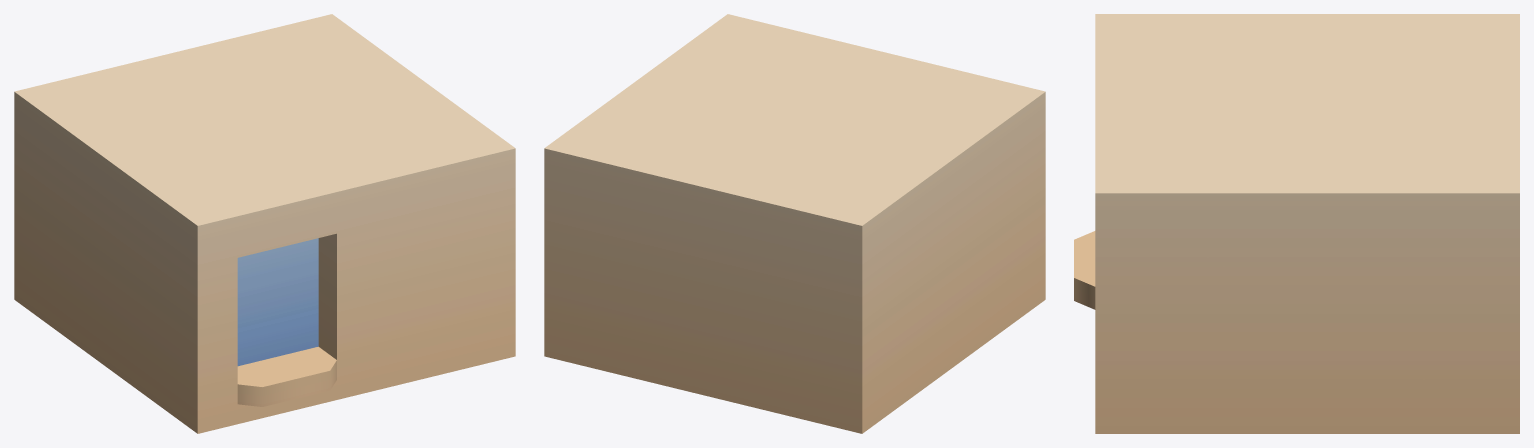
The model's file is kenney-modular-buildings-building-window-left-sill.glb.
3 views of the same model, side by side, from view 1: azimuth 30°, elevation 25°; view 2: azimuth 150°, elevation 25°; view 3: azimuth 270°, elevation 25° (orthographic). The views are drawn at different scales.
Parts seen in each view (by area): view 1: building-window-left-sill; view 2: building-window-left-sill; view 3: building-window-left-sill.
Boxes of the visible parts, left/top/right/bottom form: building-window-left-sill: left=14, top=14, right=515, bottom=433; building-window-left-sill: left=544, top=14, right=1045, bottom=433; building-window-left-sill: left=1074, top=14, right=1519, bottom=433.
Size of the model in its own units: 1 by 0.6251 by 1.05.
1 material, 1 textured.
